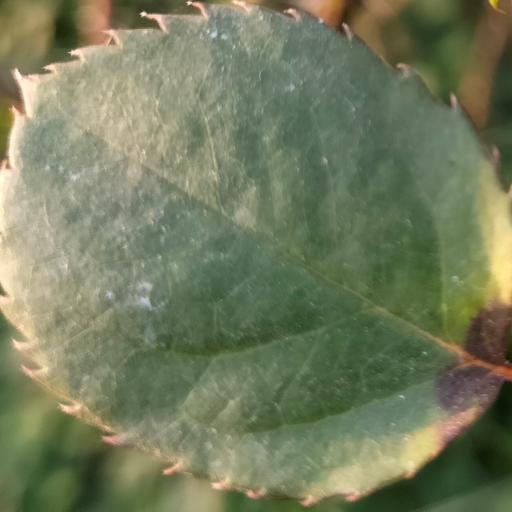black_spot: (0, 0, 512, 505)
